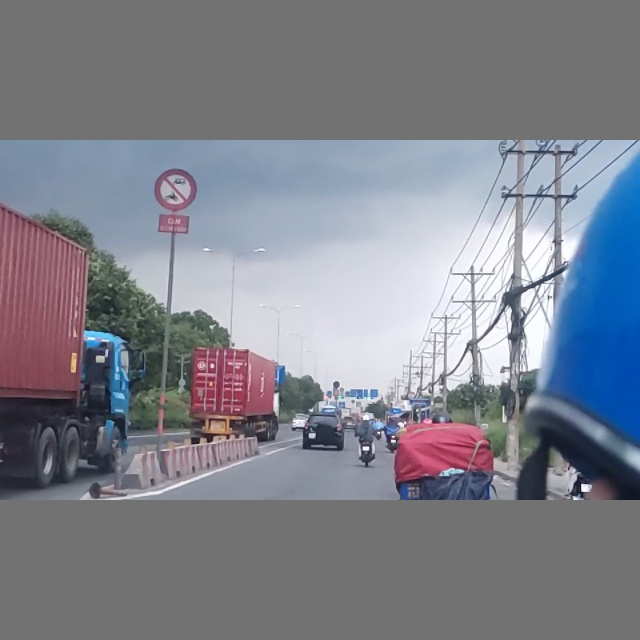P.111: (154, 169, 198, 211)
